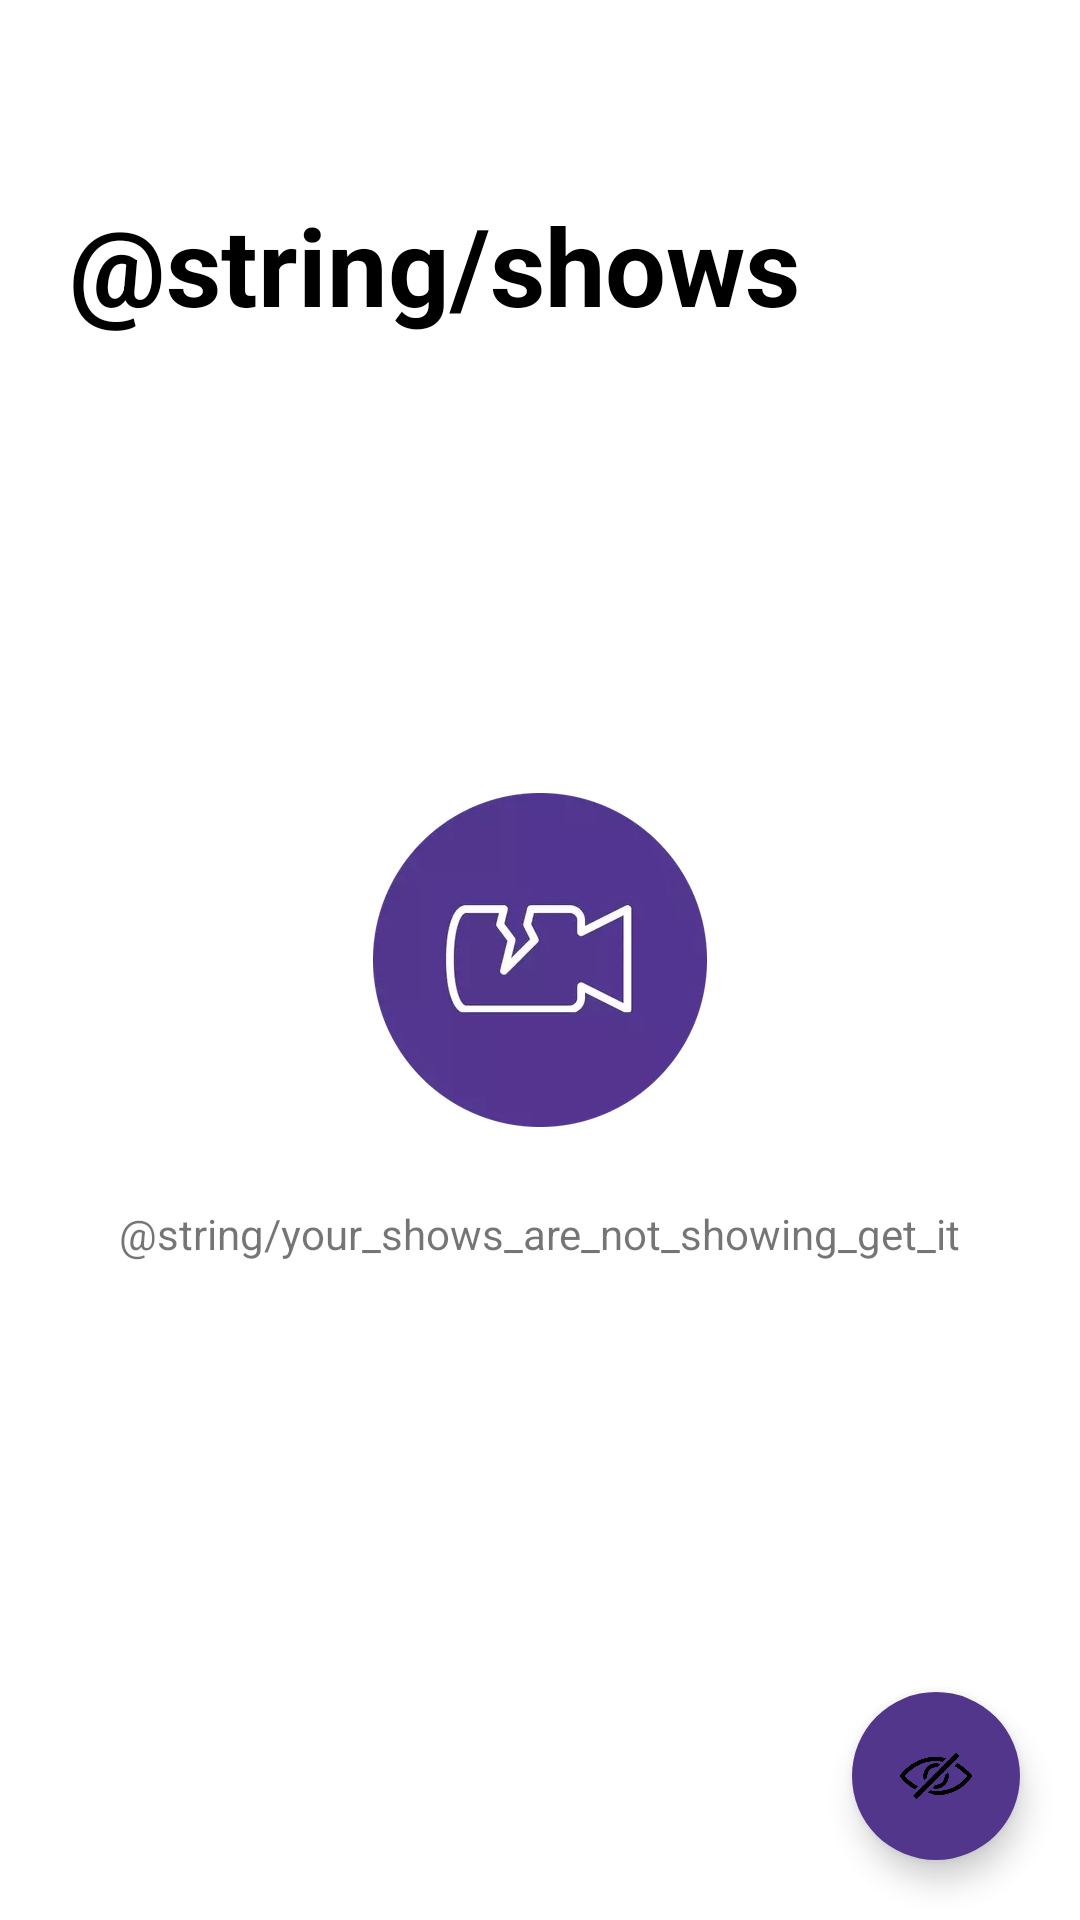

Icon click points for this 1080x1920 phone screenshot, format [x,y]:
show hide: [936,1776]
